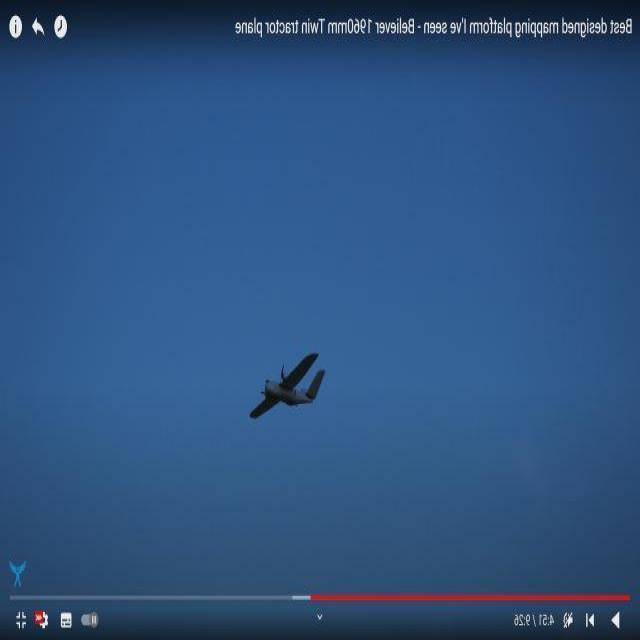iha: (260, 371, 308, 400)
